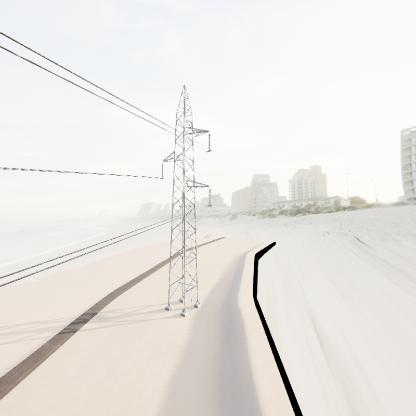tower: (159, 86, 215, 322)
